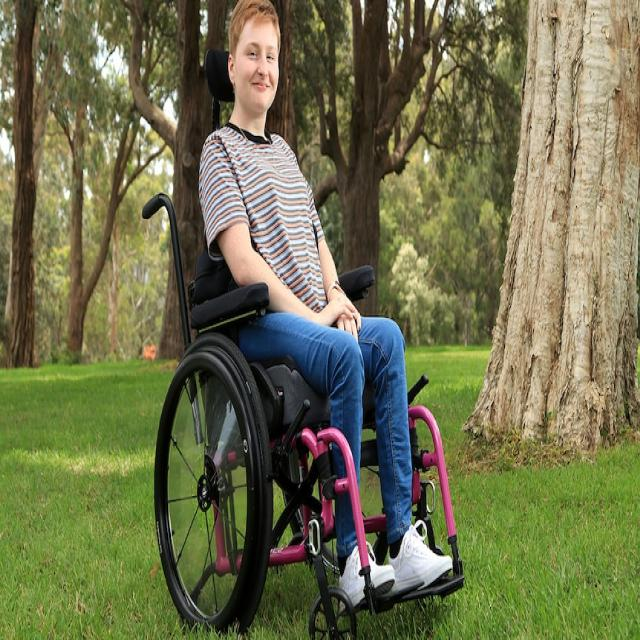wheelchairs: (138, 182, 469, 639)
